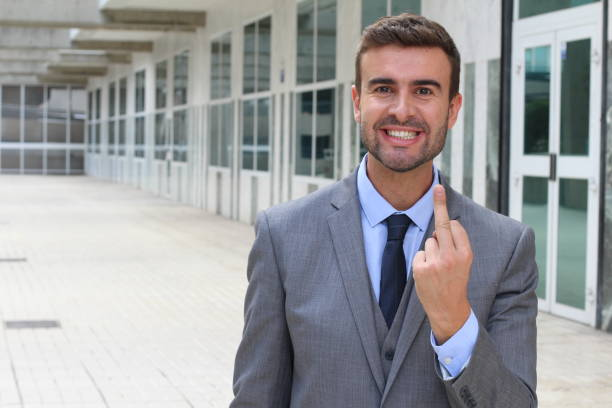insulting_gesture: (411, 179, 475, 309)
